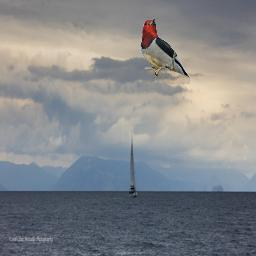Woodpecker: (138, 15, 193, 84)
